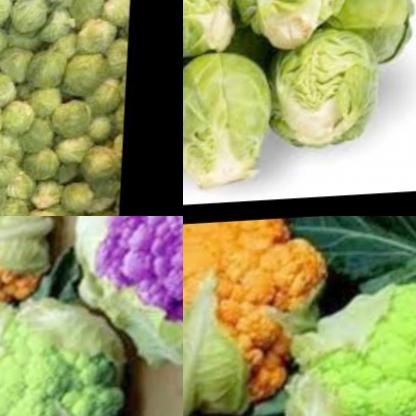brus capusta: (0, 0, 130, 216), (183, 36, 308, 195), (276, 7, 392, 155), (237, 0, 359, 64), (183, 35, 221, 186), (325, 0, 415, 61), (183, 0, 234, 54)
cayliflower: (183, 217, 343, 416), (67, 216, 183, 385), (286, 274, 416, 416), (0, 287, 134, 416), (0, 216, 57, 328)
